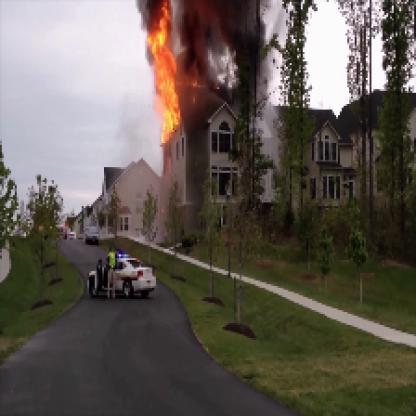Fire: (145, 2, 197, 145)
Smoke: (172, 2, 264, 108)
